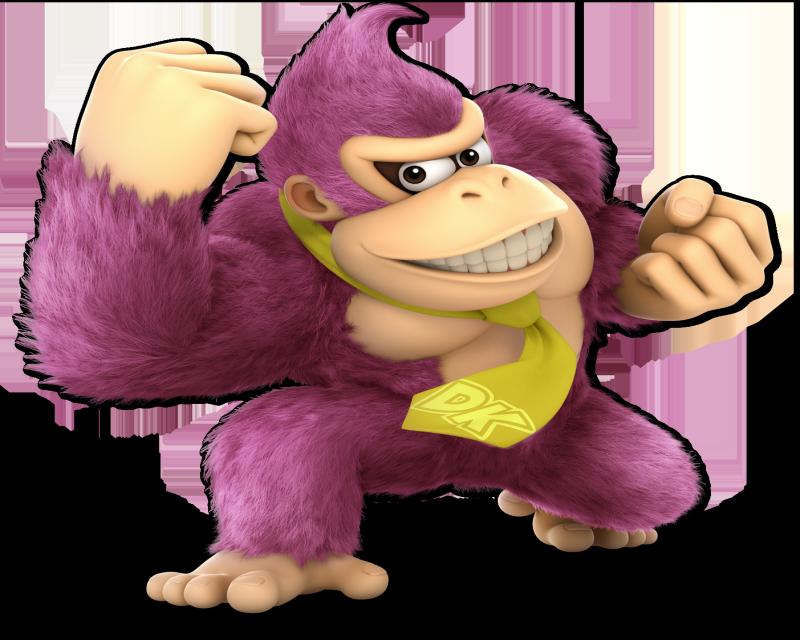dk: (239, 0, 638, 335)
